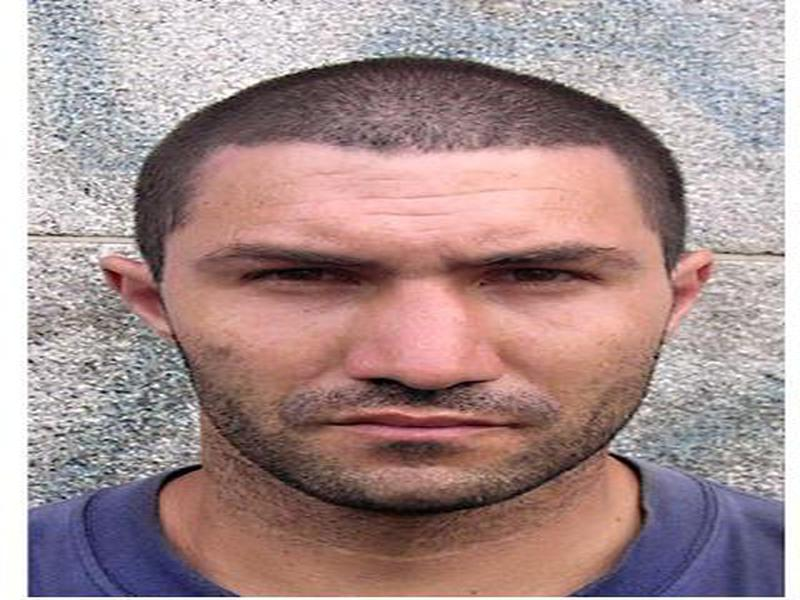without_mask: (170, 144, 649, 529)
